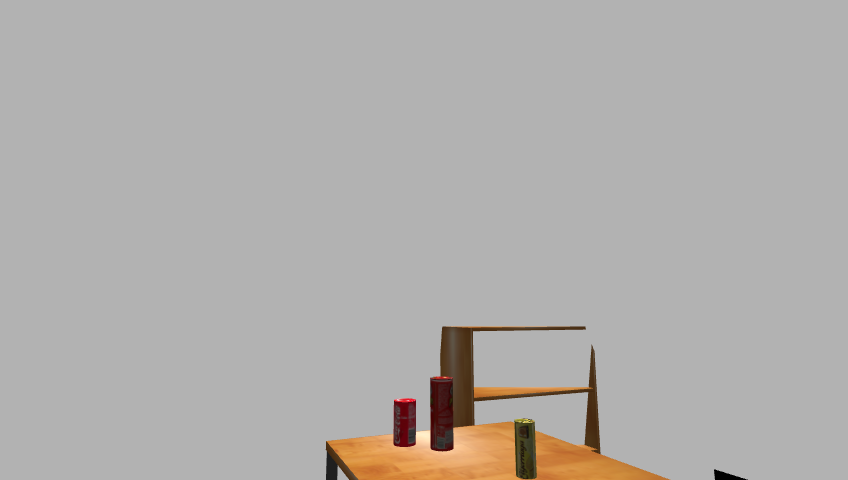aruco marker: (709, 468, 801, 480)
biscuits pack: (513, 419, 538, 479)
bookshelf: (434, 323, 602, 480)
coke can: (391, 398, 418, 449)
dinner table: (319, 422, 708, 480)
pringles can: (428, 376, 456, 452)
